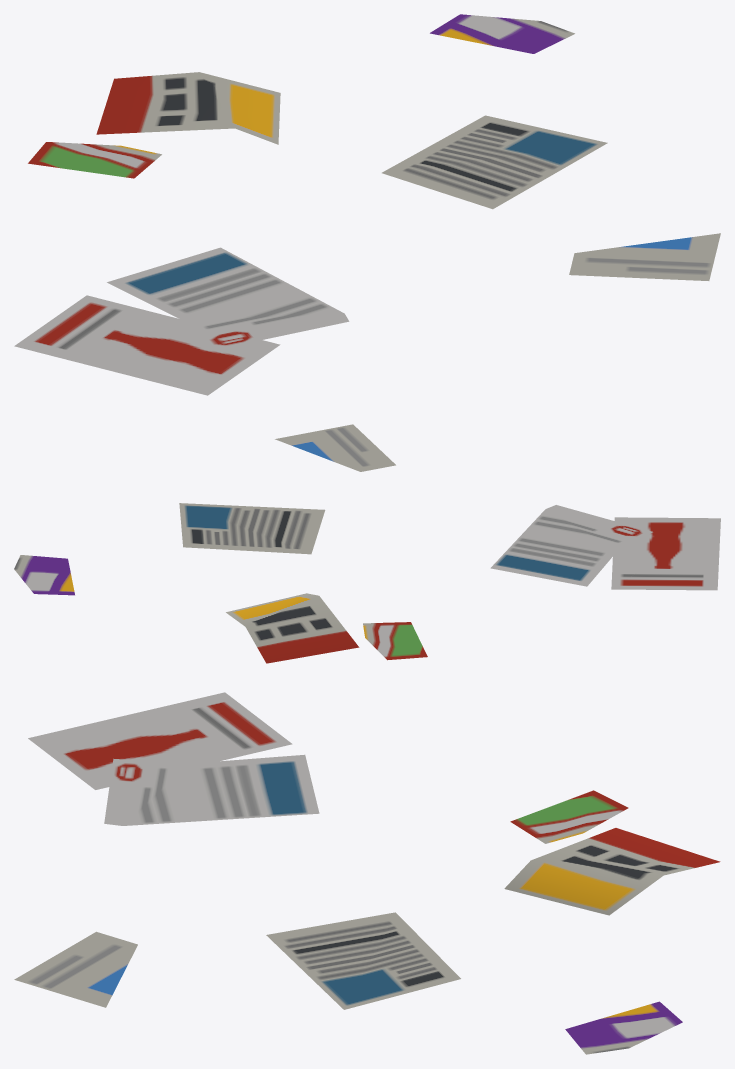
File: SM_Props_Papers_03.fbx
3 renders of one model, top to bottom at view 1: azimuth 30°, elevation 25°; view 2: azimuth 150°, elevation 25°; view 3: azimuth 270°, elevation 25°, orthographic. The views are drawn at different scales.
Parts seen in each view (by area): view 1: SM_Props_Papers_03; view 2: SM_Props_Papers_03; view 3: SM_Props_Papers_03.
Boxes of the visible parts, x1,y1,x2,y2 form: SM_Props_Papers_03: (14,14,720,395); SM_Props_Papers_03: (14,424,720,663); SM_Props_Papers_03: (14,692,720,1054).
Size of the model in its own units: 165 by 3.26 by 137.
